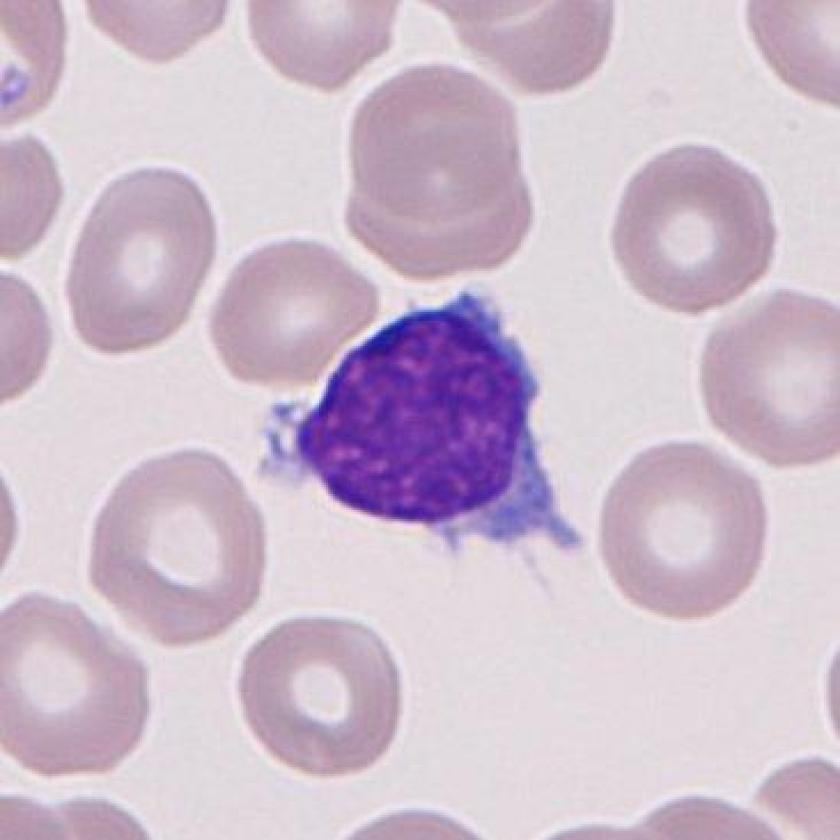lymphocyte: (256, 276, 593, 577)
